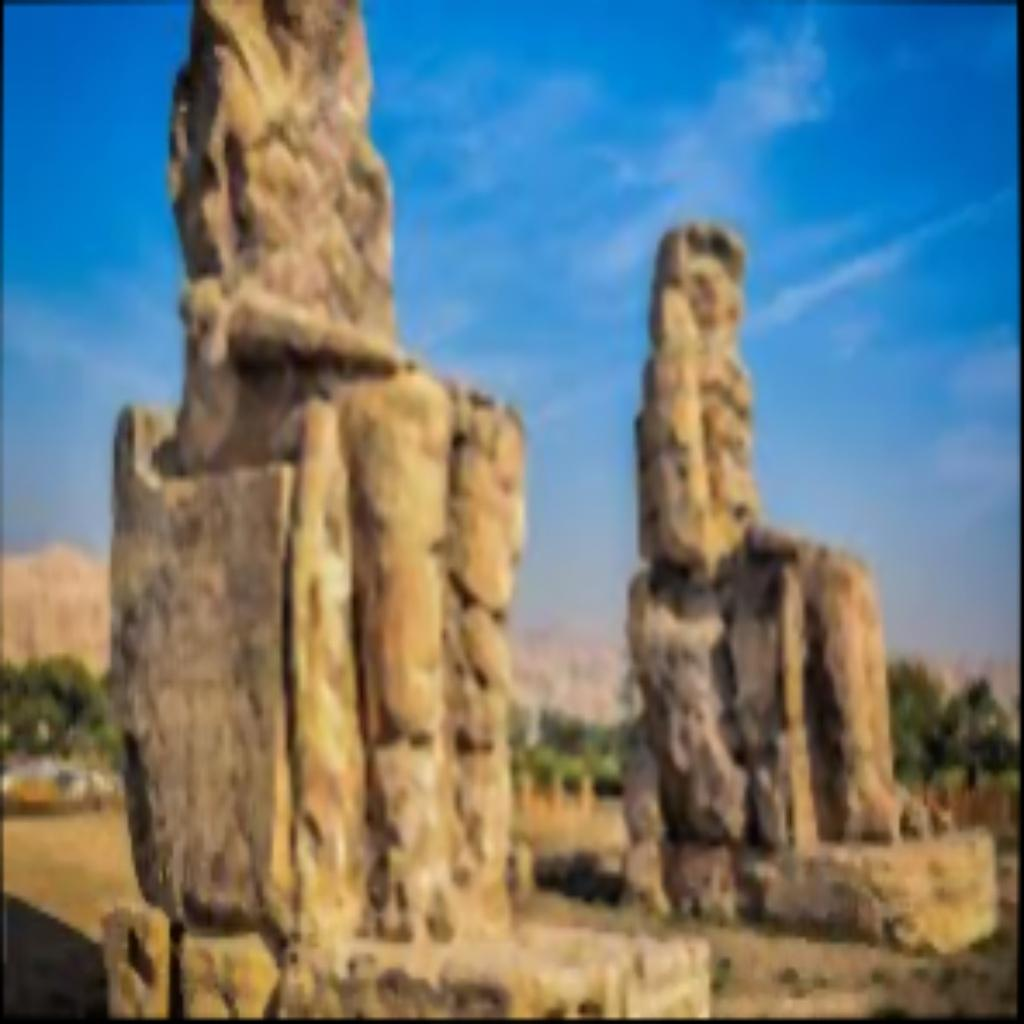Colossoi of Memnon: (100, 0, 530, 948), (622, 213, 1000, 938)
